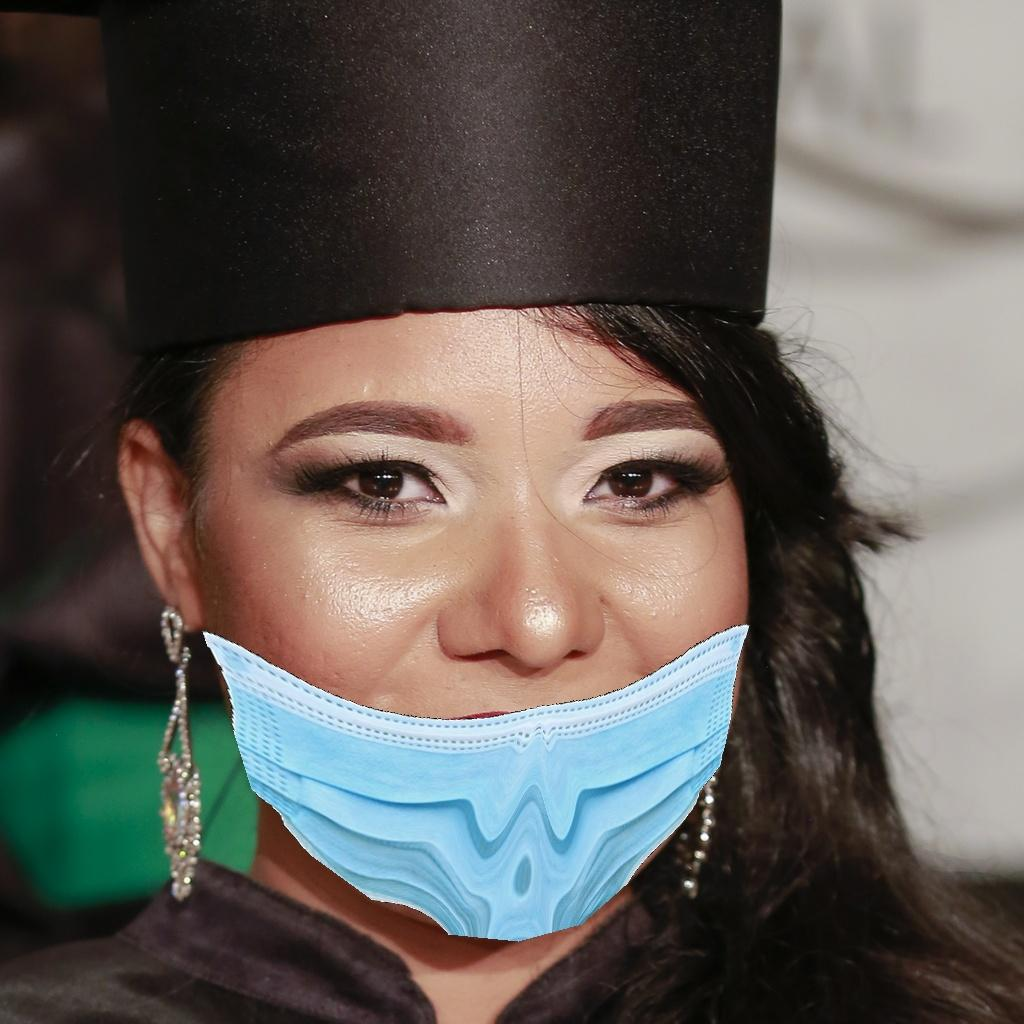Máscara Incorreta: (225, 312, 761, 922)
